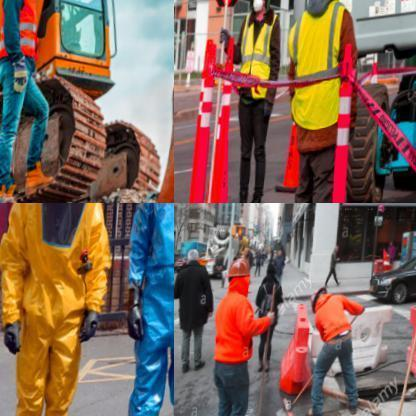vest: (1, 203, 110, 415), (122, 203, 173, 415), (284, 4, 352, 140), (236, 11, 280, 109), (0, 0, 45, 65)
